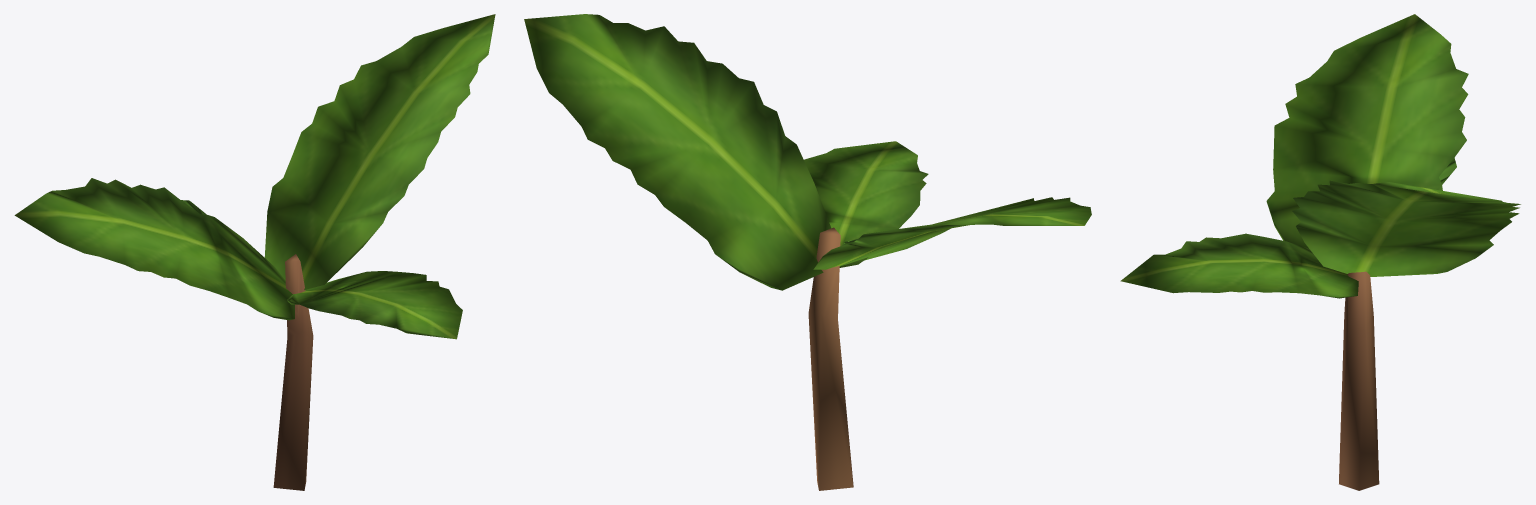
The model's file is NP_Raspberry_Sprout_LOD1.fbx.
3 renders of one model, left to right at view 1: azimuth 30°, elevation 25°; view 2: azimuth 150°, elevation 25°; view 3: azimuth 270°, elevation 25°, orthographic. The views are drawn at different scales.
Visible parts, largest first — view 1: NP_Raspberry_Sprout; view 2: NP_Raspberry_Sprout; view 3: NP_Raspberry_Sprout.
Boxes of the visible parts, x1,y1,x2,y2 form: NP_Raspberry_Sprout: (14,14,495,490); NP_Raspberry_Sprout: (524,14,1091,490); NP_Raspberry_Sprout: (1120,14,1520,490).
Size of the model in its own units: 30.16 by 22.63 by 19.77.
1 material, 1 textured.
